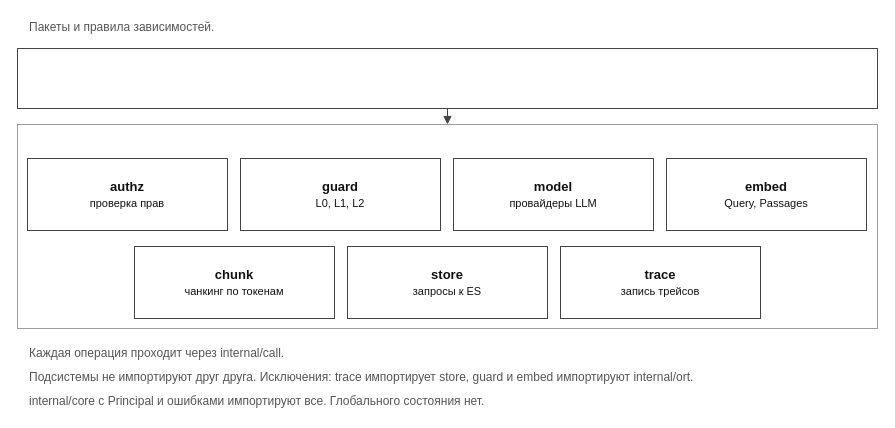
Some shapes in this 895 by 428 pixel diagram are drawn without their labels. Here are the shapes that lost their labels. From the top down, the box of each, then its label:
(16, 48, 878, 108): kit (фасад) New, Setup, Chat, Ingest, Search, Delete, Score, Generate, Tool
(16, 124, 878, 328): Подсистемы
